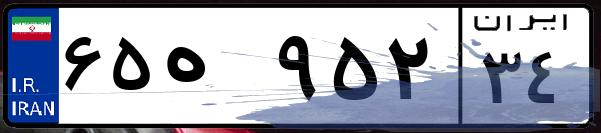2: (385, 28, 445, 110)
3: (475, 38, 525, 113)
4: (525, 38, 570, 115)
5: (330, 28, 385, 110), (110, 28, 158, 98)
6: (57, 26, 110, 100)
9: (270, 28, 330, 110)
ه: (158, 20, 270, 120)
